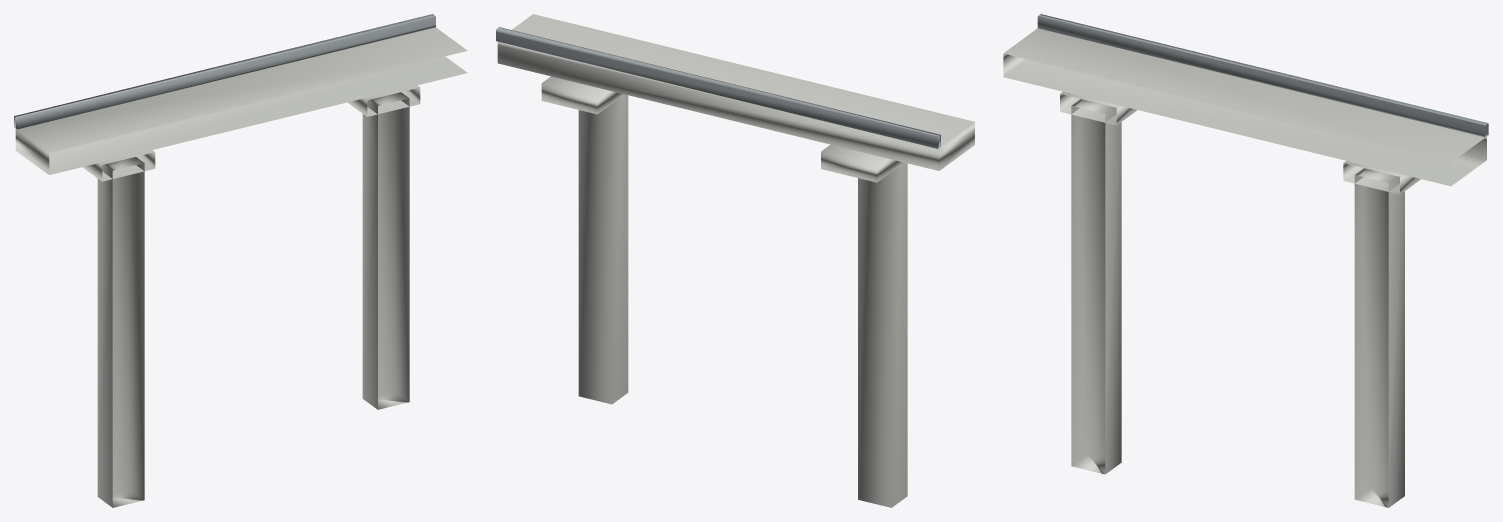
The model's file is alpine-8-11.glb.
3 views of the same model, side by side, from view 1: azimuth 30°, elevation 25°; view 2: azimuth 150°, elevation 25°; view 3: azimuth 330°, elevation 25° (orthographic). The views are drawn at different scales.
Visible parts, largest first — view 1: alpine-8-11; view 2: alpine-8-11; view 3: alpine-8-11.
Part boxes in pixels (x1,y1,x2,y2): alpine-8-11: [14, 14, 467, 507]; alpine-8-11: [496, 14, 974, 507]; alpine-8-11: [1003, 14, 1488, 507].
Size of the model in its own units: 79 by 68.79 by 13.
2 materials, 2 textured.
